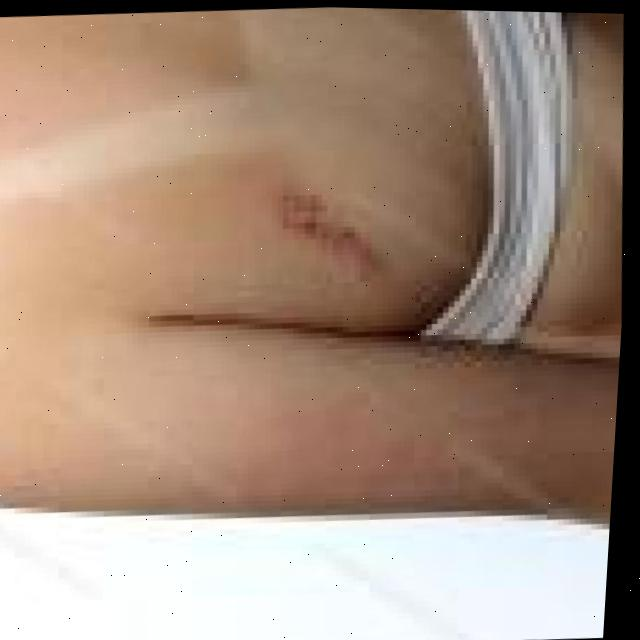Shingles: (247, 190, 377, 305)
